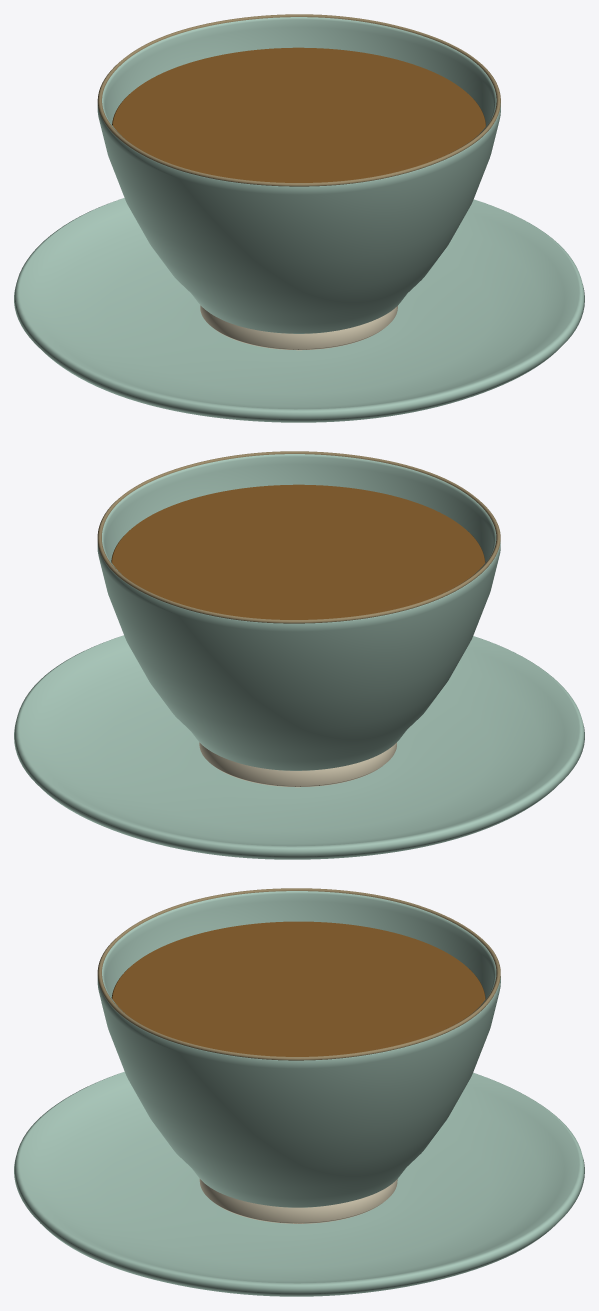
File: celadon-set.glb
3 renders of one model, top to bottom at view 1: azimuth 30°, elevation 25°; view 2: azimuth 150°, elevation 25°; view 3: azimuth 270°, elevation 25°, orthographic.
Parts seen in each view (by area): view 1: Celadon saucer, Hand-thrown double-wall cup, Amber tea, Fine iron-rich rim, Unglazed foot ring; view 2: Celadon saucer, Hand-thrown double-wall cup, Amber tea, Fine iron-rich rim, Unglazed foot ring; view 3: Celadon saucer, Hand-thrown double-wall cup, Amber tea, Fine iron-rich rim, Unglazed foot ring.
Part boxes in pixels (<box>): Celadon saucer: <box>14,198,584,422</box>; Hand-thrown double-wall cup: <box>97,17,500,333</box>; Amber tea: <box>112,47,485,182</box>; Fine iron-rich rim: <box>97,14,500,186</box>; Unglazed foot ring: <box>200,305,397,350</box>; Celadon saucer: <box>14,635,584,859</box>; Hand-thrown double-wall cup: <box>97,454,500,770</box>; Amber tea: <box>111,484,485,619</box>; Fine iron-rich rim: <box>97,451,500,623</box>; Unglazed foot ring: <box>199,742,396,787</box>; Celadon saucer: <box>14,1072,584,1296</box>; Hand-thrown double-wall cup: <box>97,891,500,1207</box>; Amber tea: <box>111,921,485,1056</box>; Fine iron-rich rim: <box>97,888,500,1060</box>; Unglazed foot ring: <box>199,1179,397,1223</box>.
Bounding box in the file's own units: 1.18 × 0.517 × 1.18.
